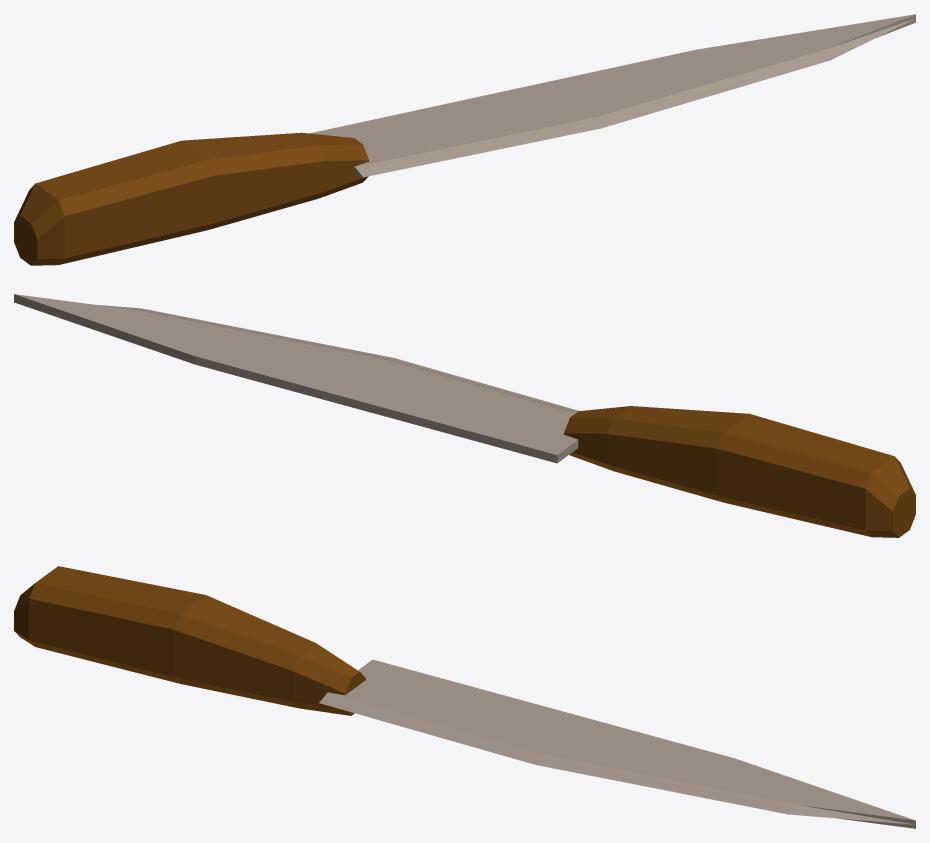
The model's file is SM_Cook_Knife_Slim_01.fbx.
The picture shows the model from 3 angles, top to bottom: view 1: azimuth 30°, elevation 25°; view 2: azimuth 150°, elevation 25°; view 3: azimuth 330°, elevation 25°; orthographic projection.
Visible parts, largest first — view 1: SM_Cook_Knife_Slim_01; view 2: SM_Cook_Knife_Slim_01; view 3: SM_Cook_Knife_Slim_01.
Part boxes in pixels (x1,y1,x2,y2): SM_Cook_Knife_Slim_01: (14,14,915,265); SM_Cook_Knife_Slim_01: (14,294,915,537); SM_Cook_Knife_Slim_01: (14,566,915,828).
Bounding box in the file's own units: 0.333 × 0.025 × 0.041.
1 material, 1 textured.
